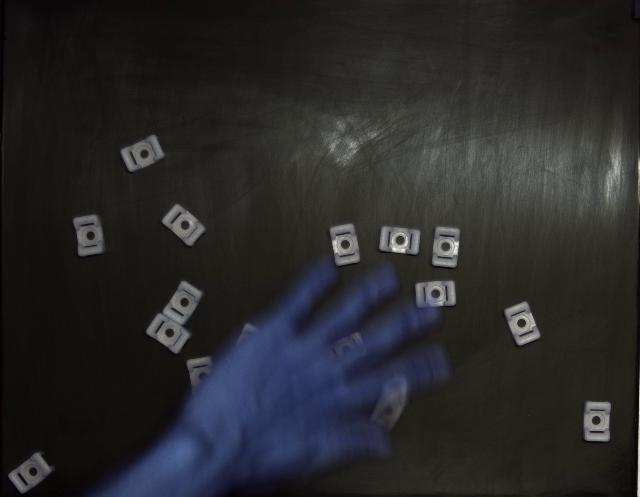first_side: (9, 452, 55, 494), (161, 205, 206, 246), (120, 135, 165, 172), (504, 302, 540, 346), (72, 215, 105, 258), (330, 224, 360, 266), (379, 226, 421, 255), (431, 226, 460, 268), (584, 401, 611, 442), (415, 281, 456, 308)
